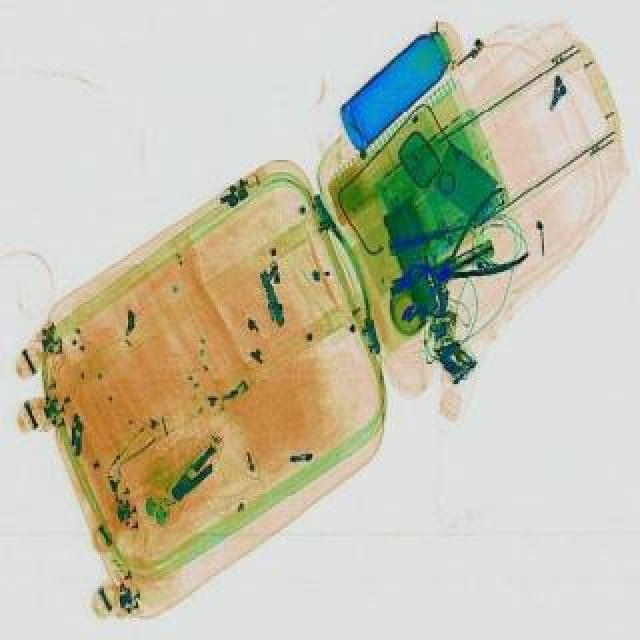wrench: (404, 190, 552, 316)
